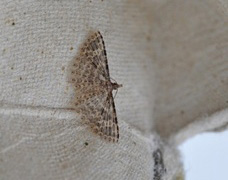Alucitidae: (64, 28, 124, 142)
moth: (64, 28, 124, 142)
